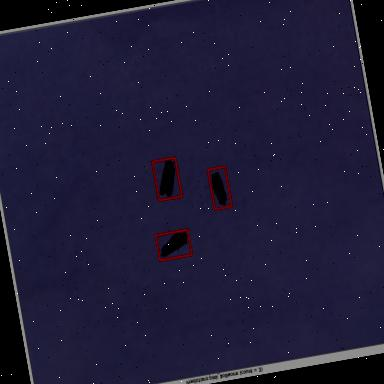pbw: (304, 0, 359, 59), (328, 106, 380, 158)
